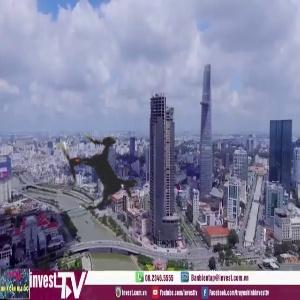drone: (27, 104, 169, 246)
